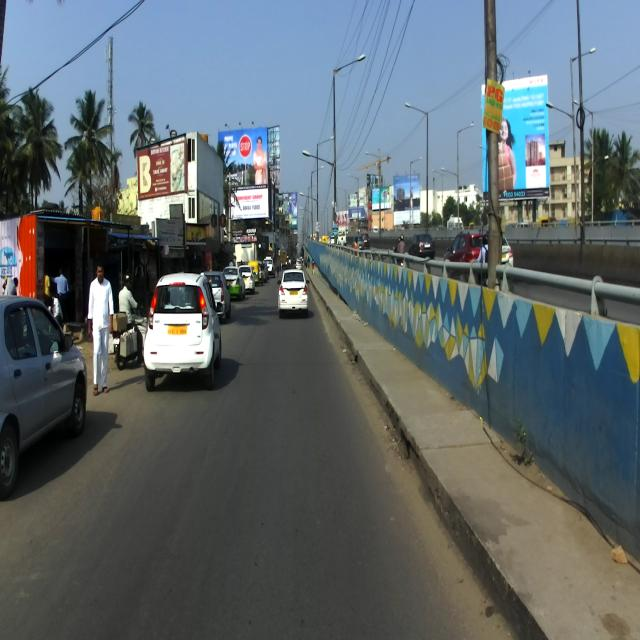car ahead at: (0, 285, 86, 493), (148, 273, 219, 389), (278, 269, 311, 315)
person ahead at: (82, 263, 120, 397)
